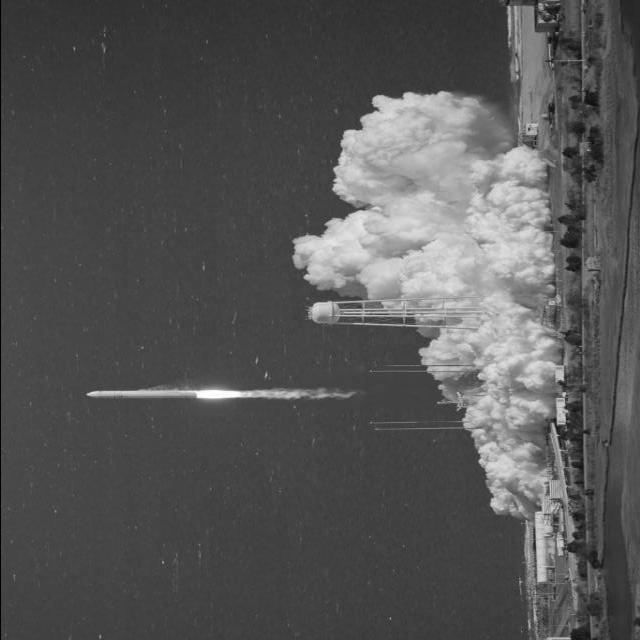Missile: (81, 387, 206, 402)
